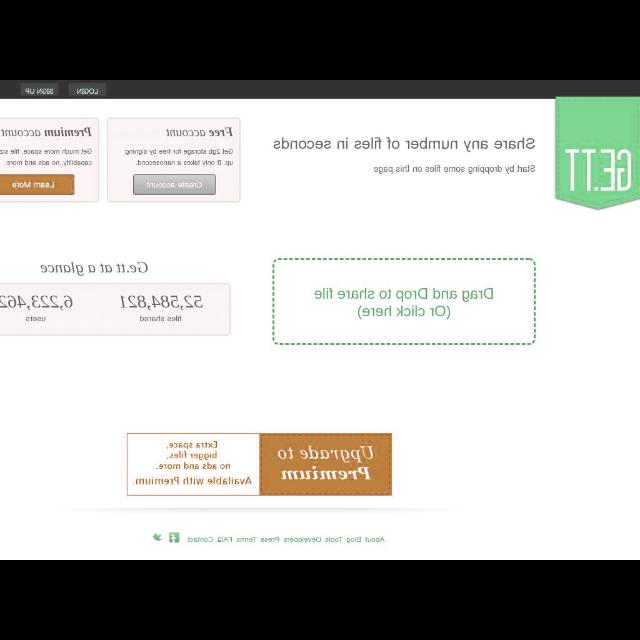backgroundimage: (125, 432, 393, 496)
icon: (167, 531, 181, 545), (151, 532, 161, 542)
image: (553, 97, 639, 213)
link: (312, 284, 498, 322), (283, 536, 321, 544), (186, 536, 214, 544), (216, 533, 232, 545), (323, 534, 342, 544), (260, 535, 278, 545), (235, 535, 255, 543), (347, 534, 361, 544), (364, 536, 386, 542)
text: (270, 134, 536, 154), (272, 444, 376, 484), (114, 290, 204, 324), (151, 437, 233, 471), (124, 146, 236, 168), (372, 164, 536, 178), (1, 293, 74, 323), (0, 146, 94, 168), (132, 474, 254, 490), (38, 260, 150, 276), (1, 125, 91, 139), (163, 126, 233, 138), (146, 182, 204, 190), (12, 180, 56, 190), (25, 88, 53, 94), (75, 87, 99, 93)
textbutton: (132, 174, 215, 196), (1, 173, 75, 195), (20, 84, 58, 96), (70, 84, 106, 96)
toolbar: (1, 81, 639, 99)
